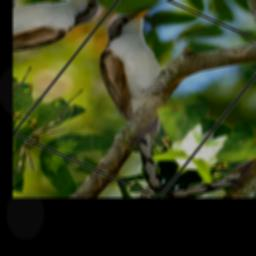Cuckoo: (20, 0, 256, 196)
